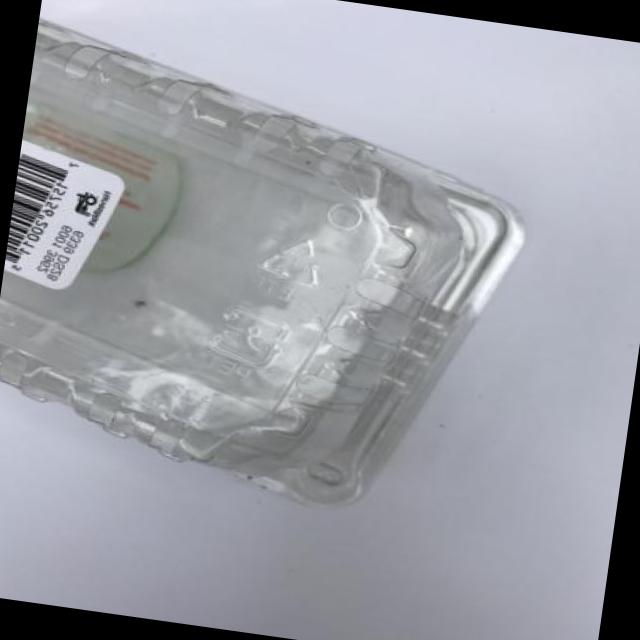Clamshell: (0, 4, 560, 536)
Label: (4, 91, 198, 294), (0, 129, 135, 315)
